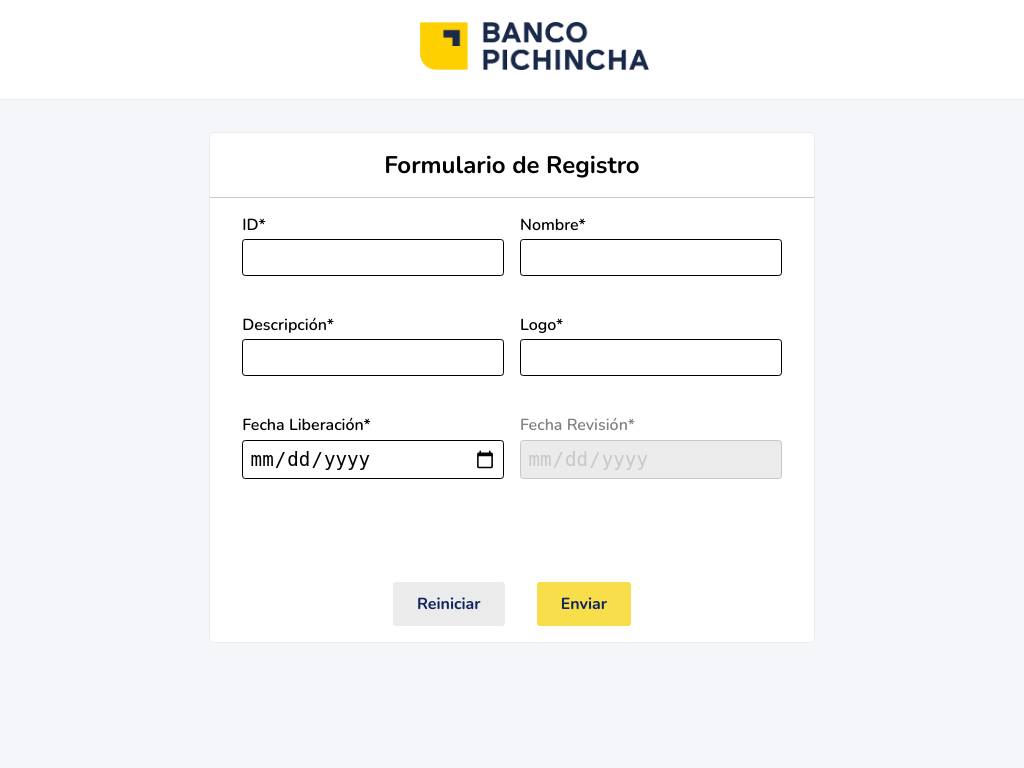
Test case: AssetForm › Inputs › Validation › Date Revision › Must be always equal to a year after release date
Step 1. Type "2021-01-01" into the date field labelled "Fecha Liberación" → [373, 460], box [242,440,504,480]
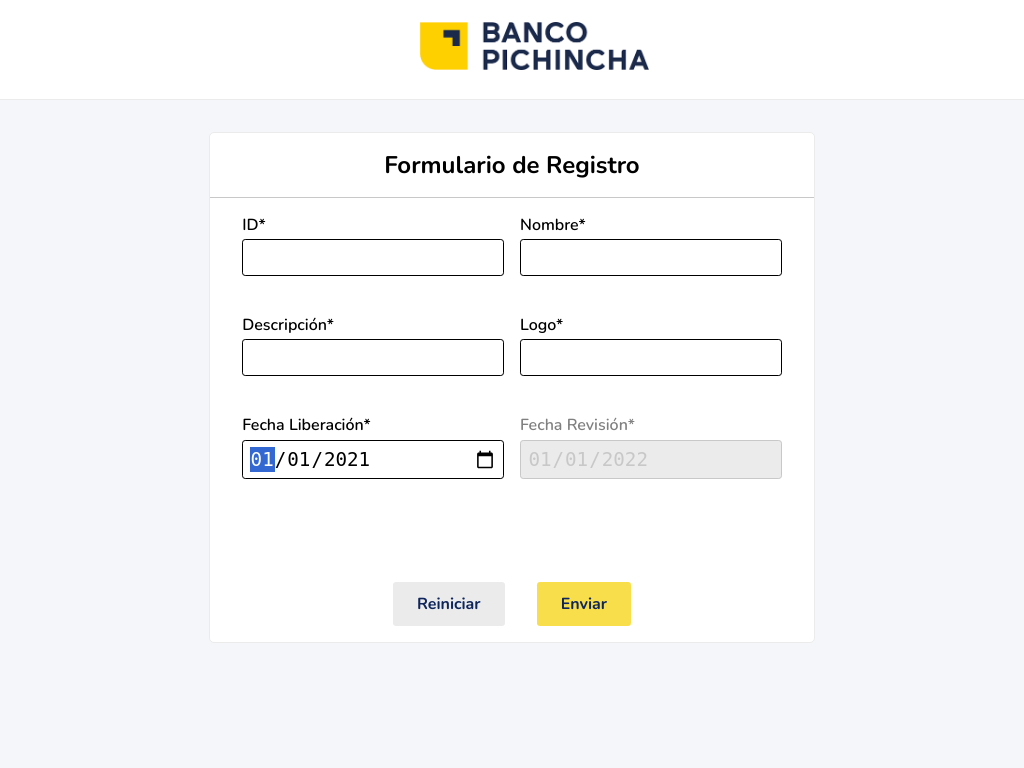
Result: the date field labelled "Fecha Revisión" holds "2022-01-01" at [520,440,782,480]
